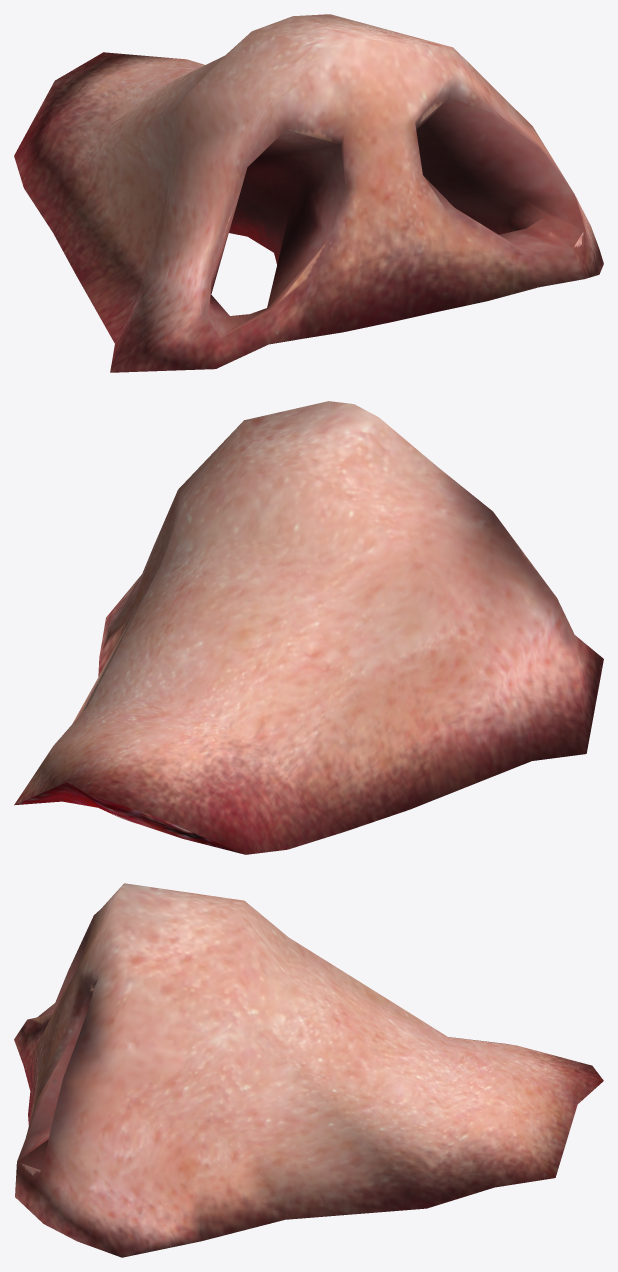
The model's file is Nose_5_low.fbx.
The picture shows the model from 3 angles, top to bottom: view 1: azimuth 30°, elevation 25°; view 2: azimuth 150°, elevation 25°; view 3: azimuth 270°, elevation 25°; orthographic projection. The views are drawn at different scales.
Parts seen in each view (by area): view 1: nose_5_low; view 2: nose_5_low; view 3: nose_5_low.
Part boxes in pixels (<box>): nose_5_low: <box>14,14,603,372</box>; nose_5_low: <box>14,401,603,854</box>; nose_5_low: <box>14,883,603,1257</box>.
Size of the model in its own units: 0.0393 by 0.0225 by 0.0441.
